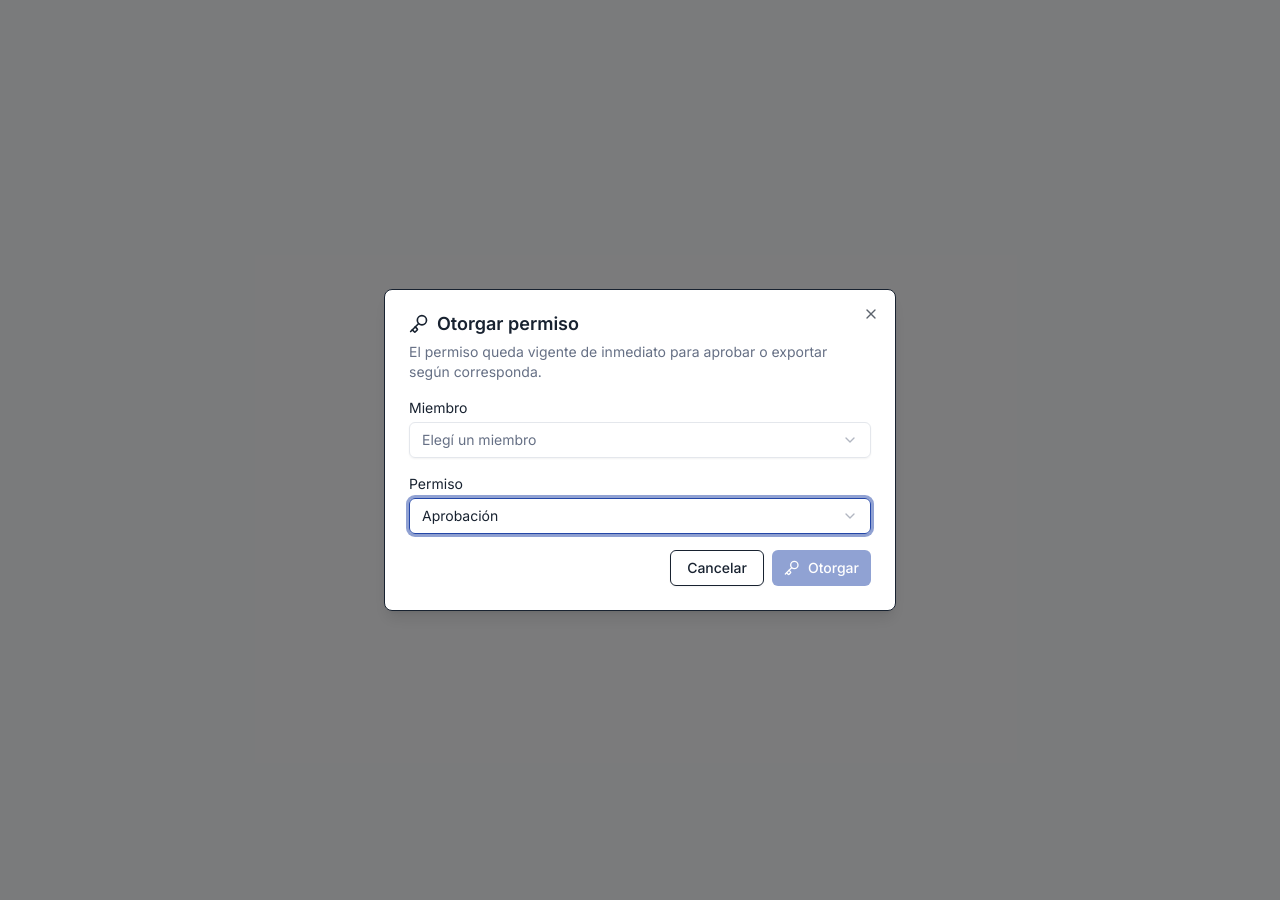
Test case: GrantDialog (F3, S9) › al cambiar a exportación, Ana vuelve a estar disponible
Press Arrowdown
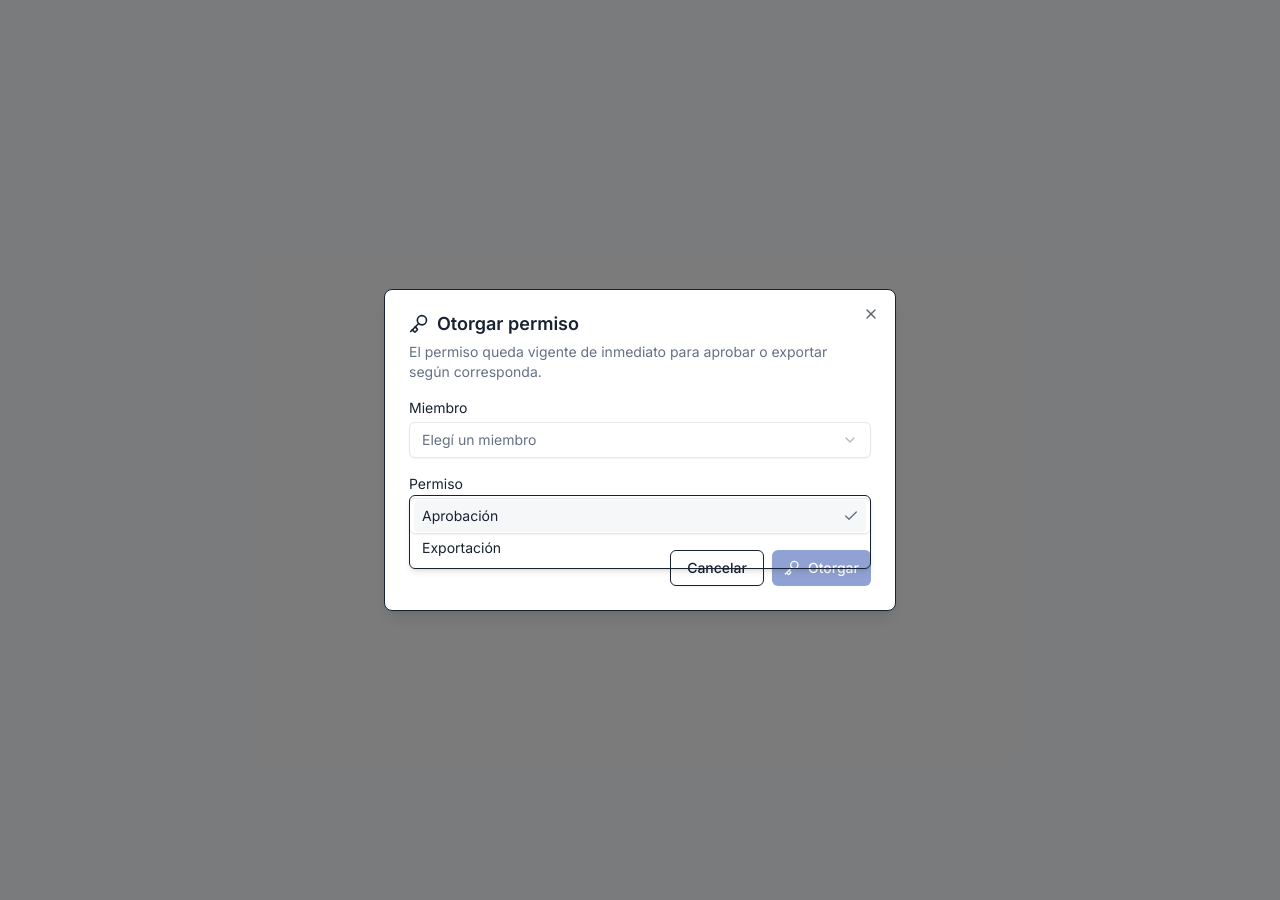
Click the option "Exportación" at (462, 548), box x1=422 y1=539 x2=501 y2=556
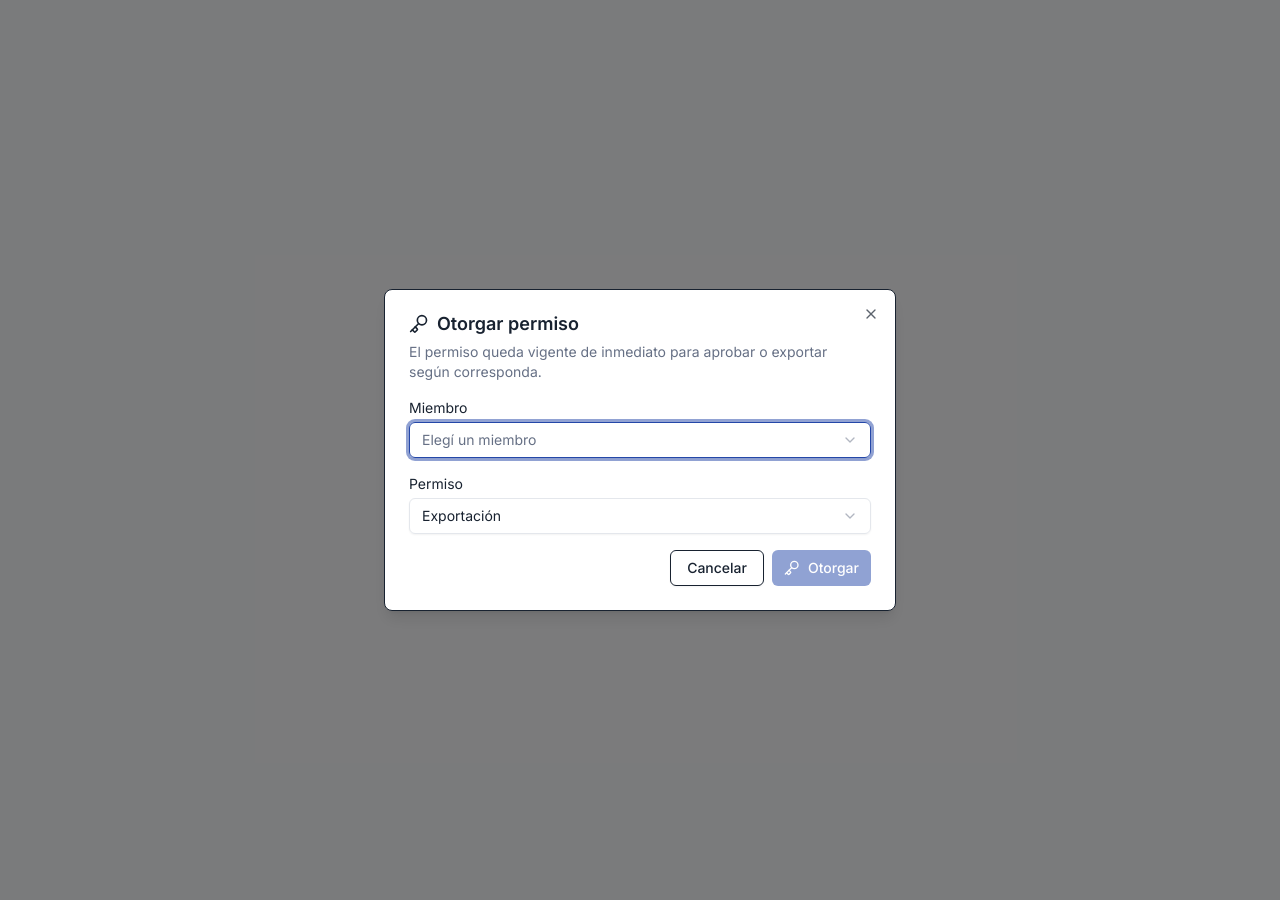
Press Arrowdown
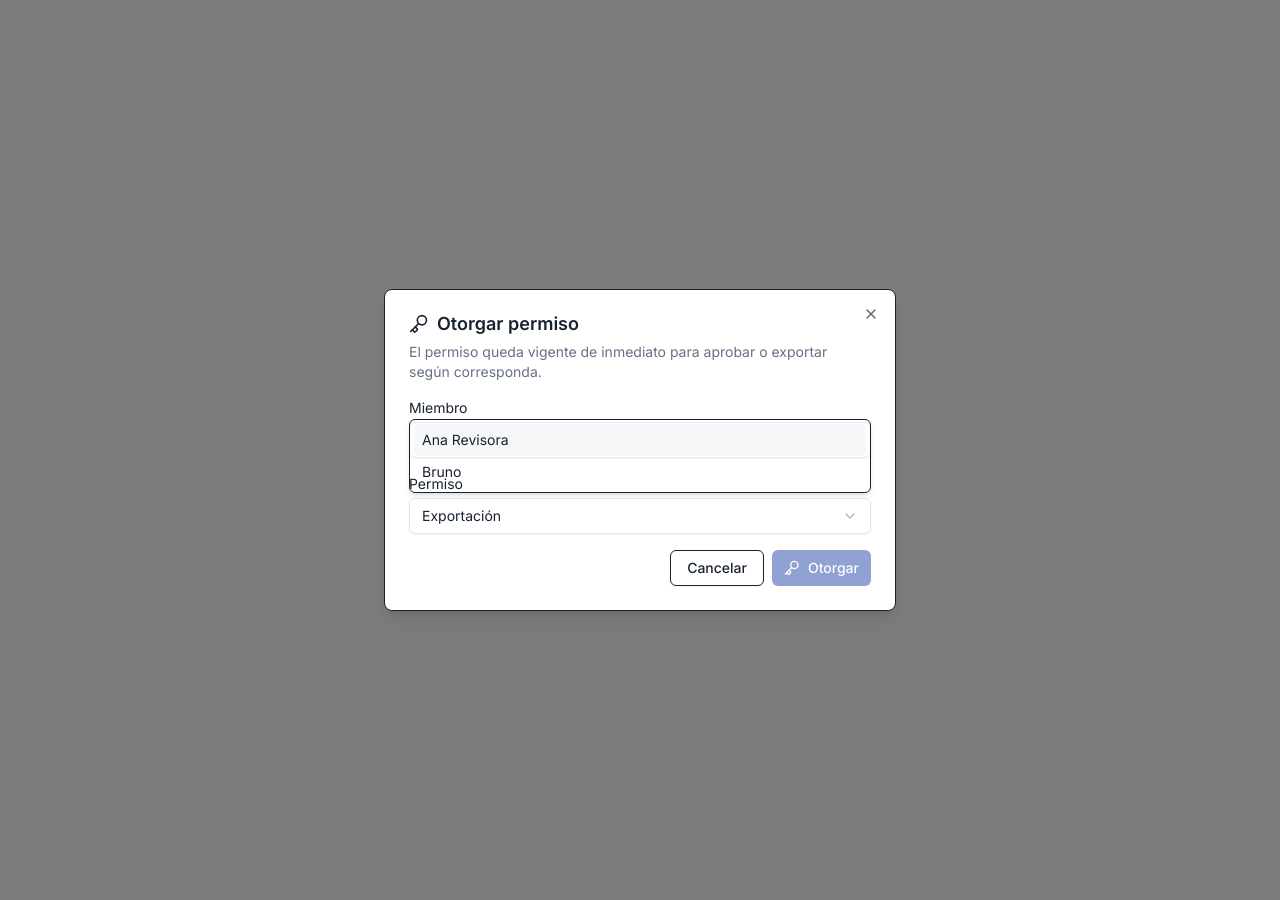
Check: the option "Ana Revisora" is shown, box x1=414 y1=424 x2=866 y2=456
Check: the option "Bruno" is shown, box x1=422 y1=463 x2=461 y2=480
